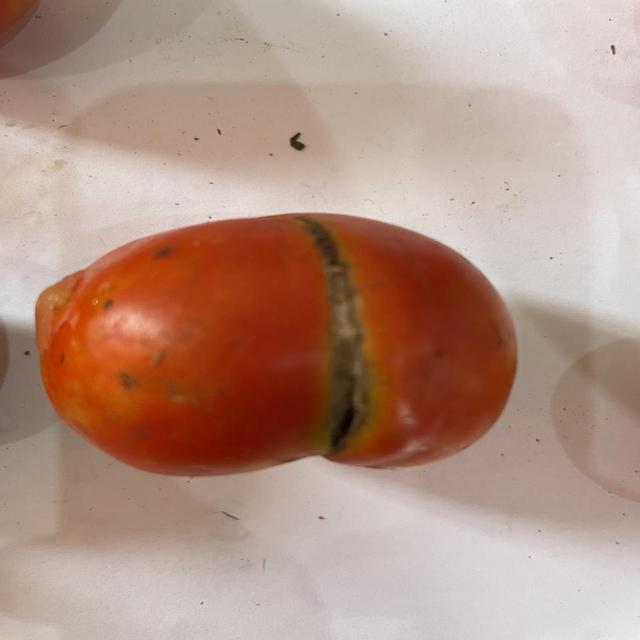Cracking Fruit: (199, 146, 251, 316)
